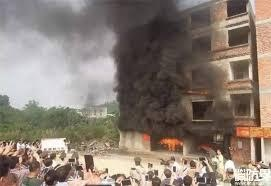fire: (158, 135, 183, 148)
